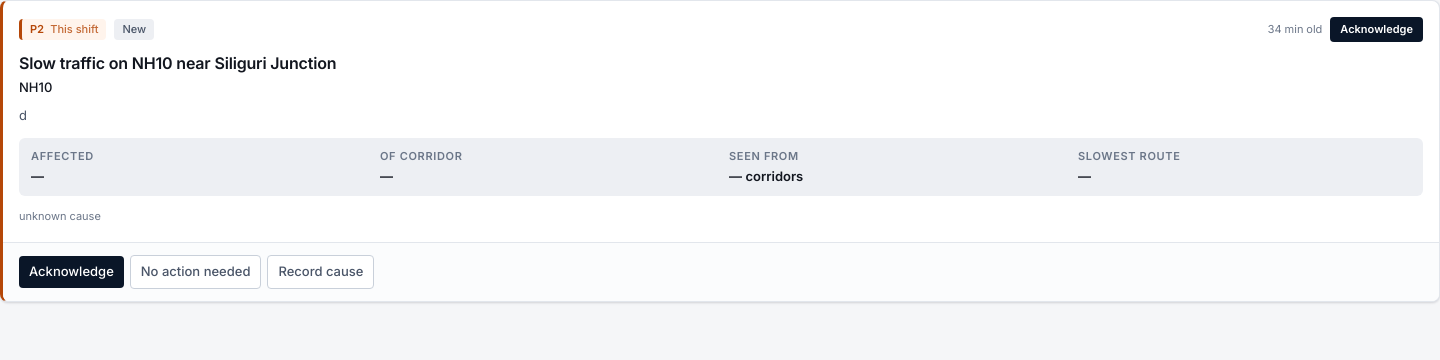
Scenario: IncidentCard › shows an officer-readable message when someone else got there first
Click the button "Acknowledge" next to "old" at (1377, 29), box 1330,17 -> 1423,42
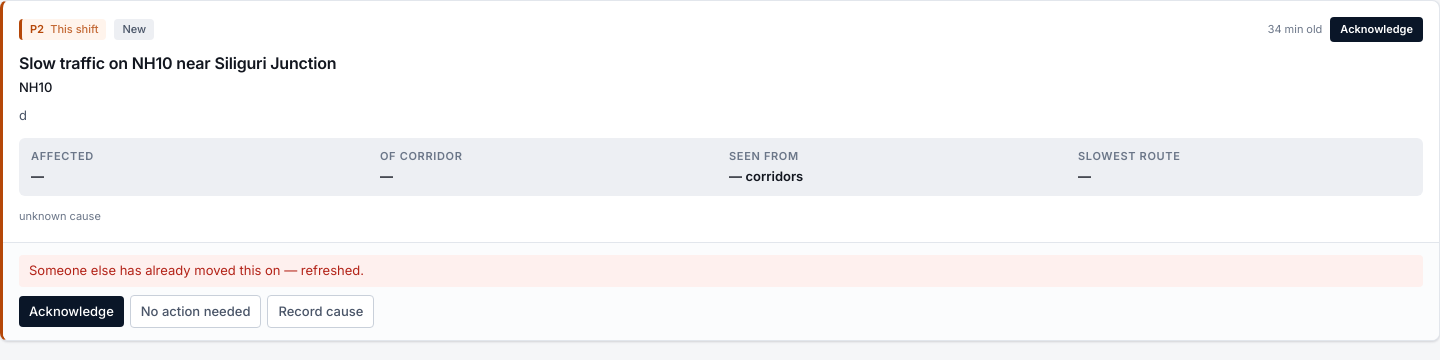
Result: the text "Someone else has already moved this on — refreshed." is shown at 19,255 -> 1423,286
